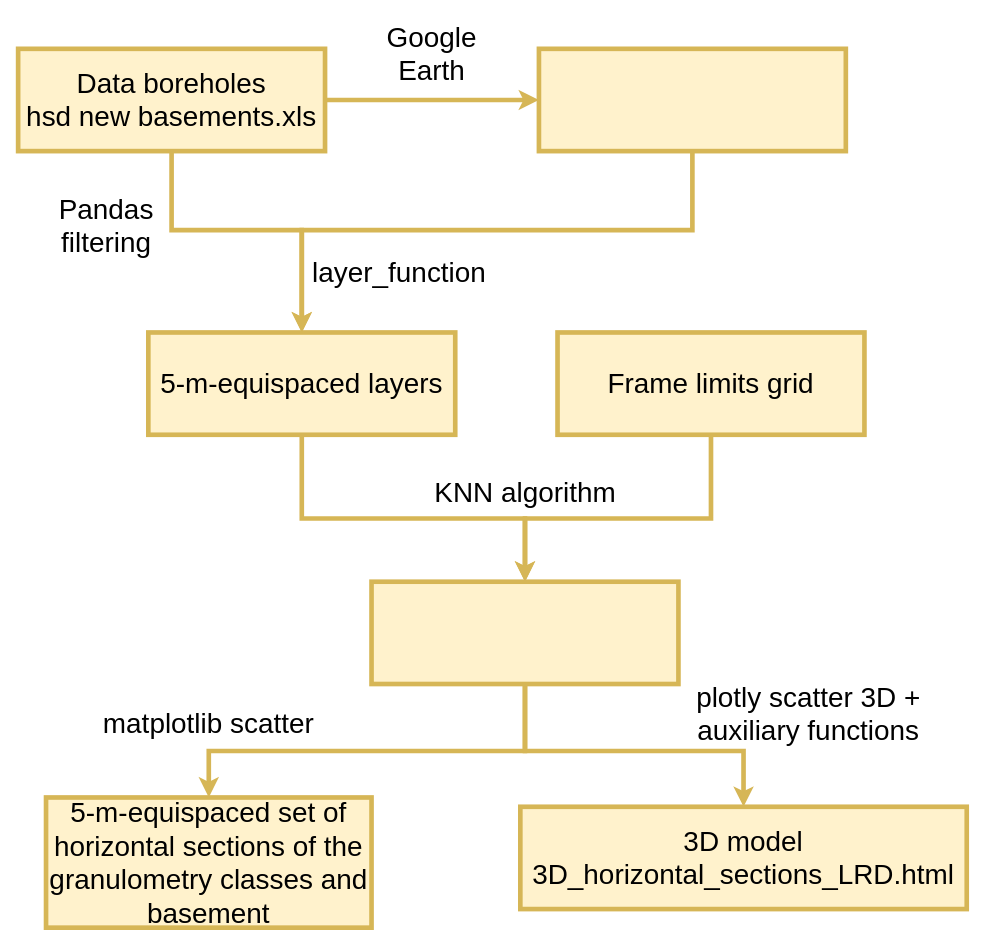
This 985x946 diagram has some shape labels left out. Each missing label, with the centre of its shape:
"KNN predictions" belongs at [524,632].
"LRD contour" belongs at [692,99].
